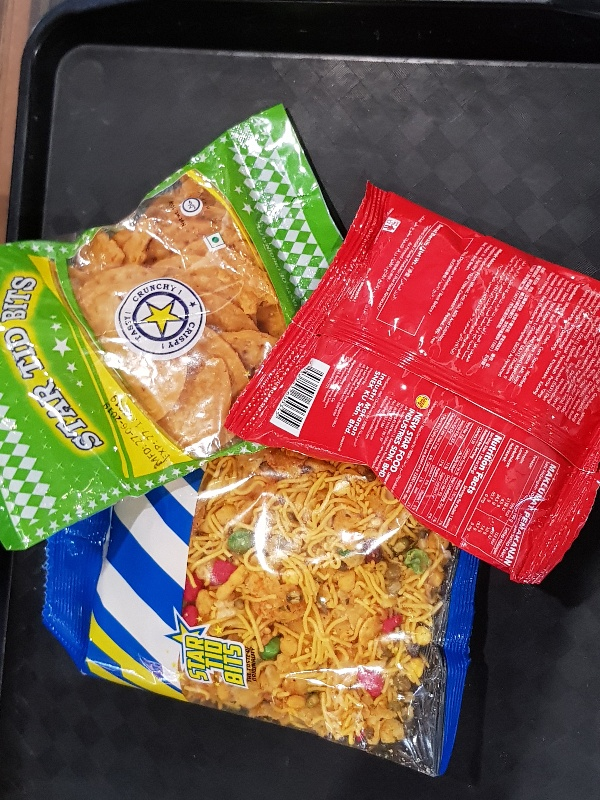ShoyueMi Spicy Flavoured Snacks: (223, 179, 600, 586)
Star Tidbits 'O' Ring: (1, 101, 344, 553)
Star Tidbits Mixer: (40, 446, 482, 778)
